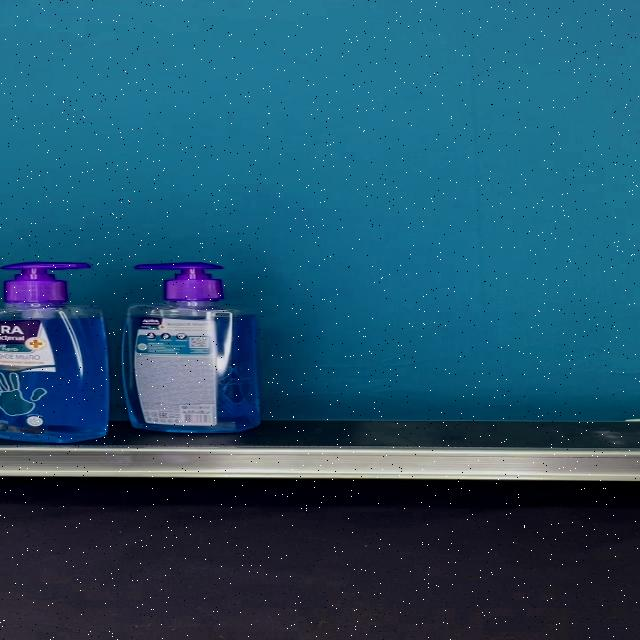Bottle: (121, 263, 261, 433), (0, 261, 109, 442)
Cap: (0, 262, 92, 302), (135, 263, 226, 303)
